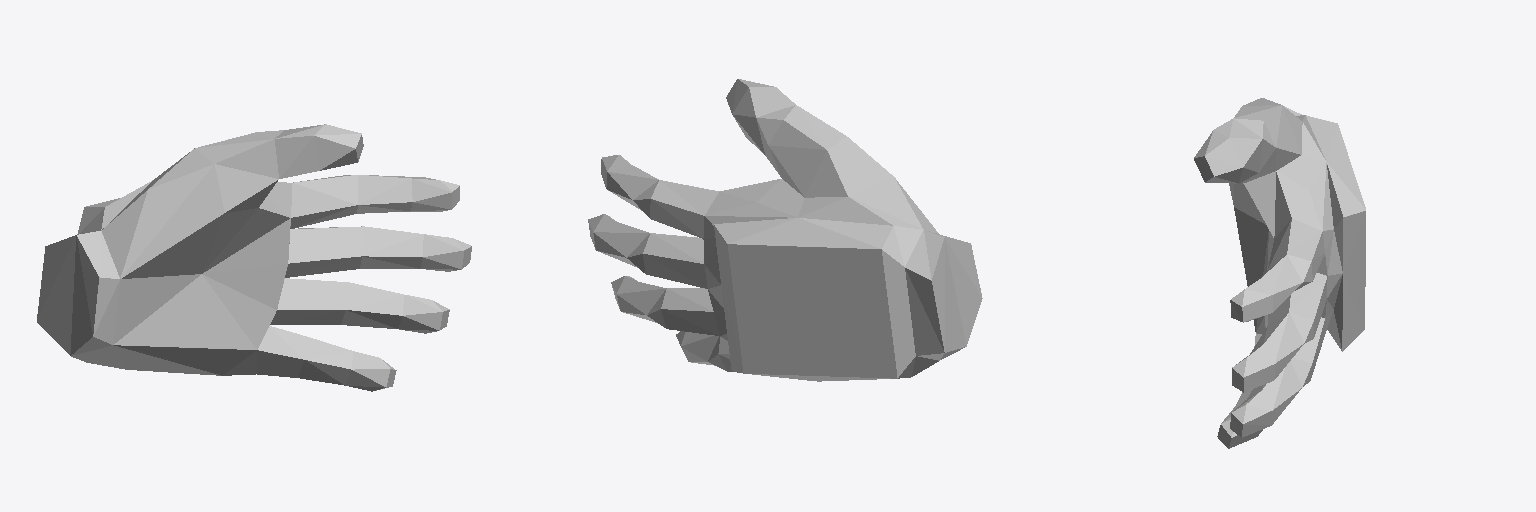
File: Chief Left Hand.obj
The picture shows the model from 3 angles: view 1: azimuth 30°, elevation 25°; view 2: azimuth 150°, elevation 25°; view 3: azimuth 270°, elevation 25°; orthographic projection.
Visible parts, largest first — view 1: MasterChief; view 2: MasterChief; view 3: MasterChief.
Part boxes in pixels (left/top/right/bottom): MasterChief: left=37, top=124, right=471, bottom=391; MasterChief: left=588, top=79, right=982, bottom=381; MasterChief: left=1194, top=98, right=1365, bottom=448.
Bounding box in the file's own units: 0.1415 × 0.0953 × 0.0535.